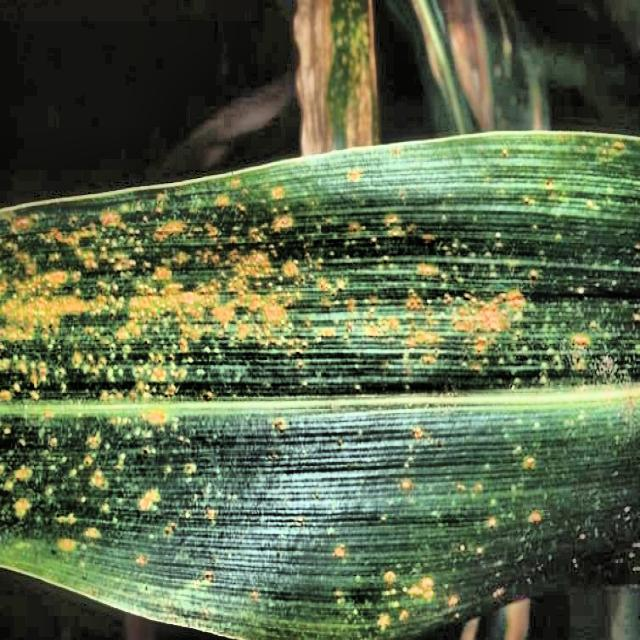common_rust: (0, 186, 640, 624)
